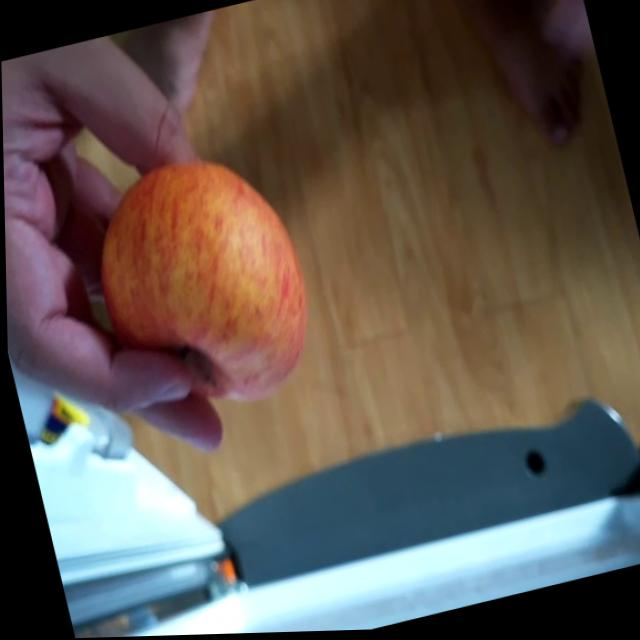apple: (74, 149, 324, 430)
